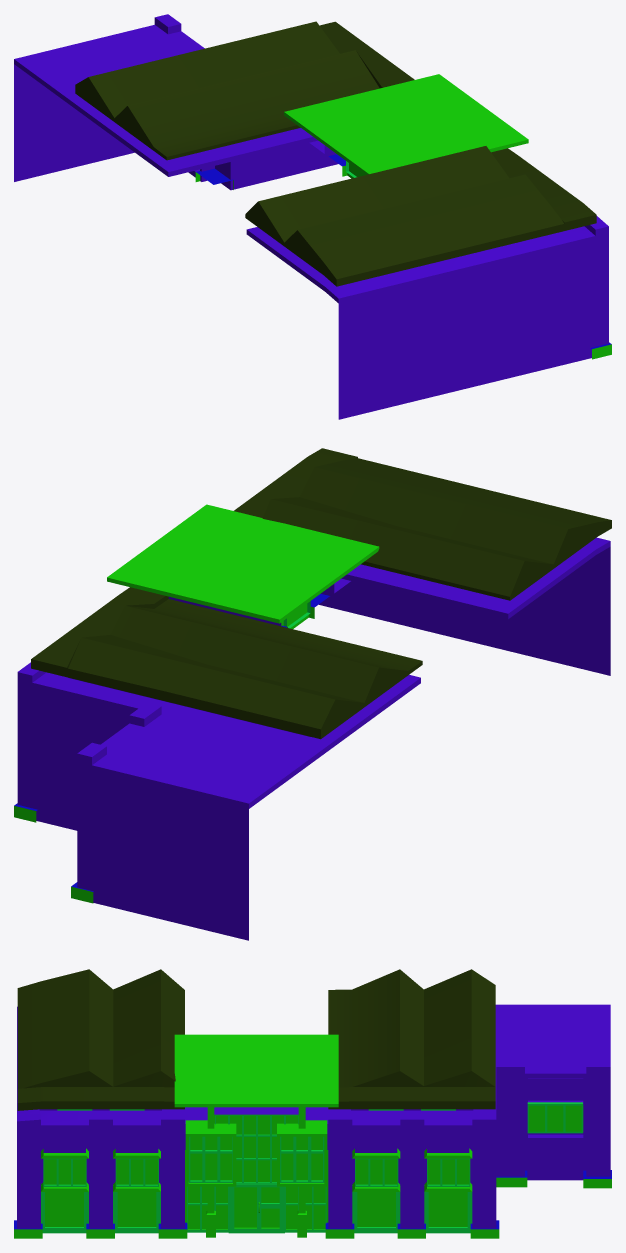
File: Bat_Joliette_6.fbx
The picture shows the model from 3 angles, top to bottom: view 1: azimuth 30°, elevation 25°; view 2: azimuth 150°, elevation 25°; view 3: azimuth 270°, elevation 25°; orthographic projection. The views are drawn at different scales.
Visible parts, largest first — view 1: Bat_Joliette_6; view 2: Bat_Joliette_6; view 3: Bat_Joliette_6.
Part boxes in pixels (<box>): Bat_Joliette_6: <box>14,14,611,419</box>; Bat_Joliette_6: <box>14,448,611,940</box>; Bat_Joliette_6: <box>14,969,611,1238</box>.
Bounding box in the file's own units: 2548 × 1393 × 5120.
